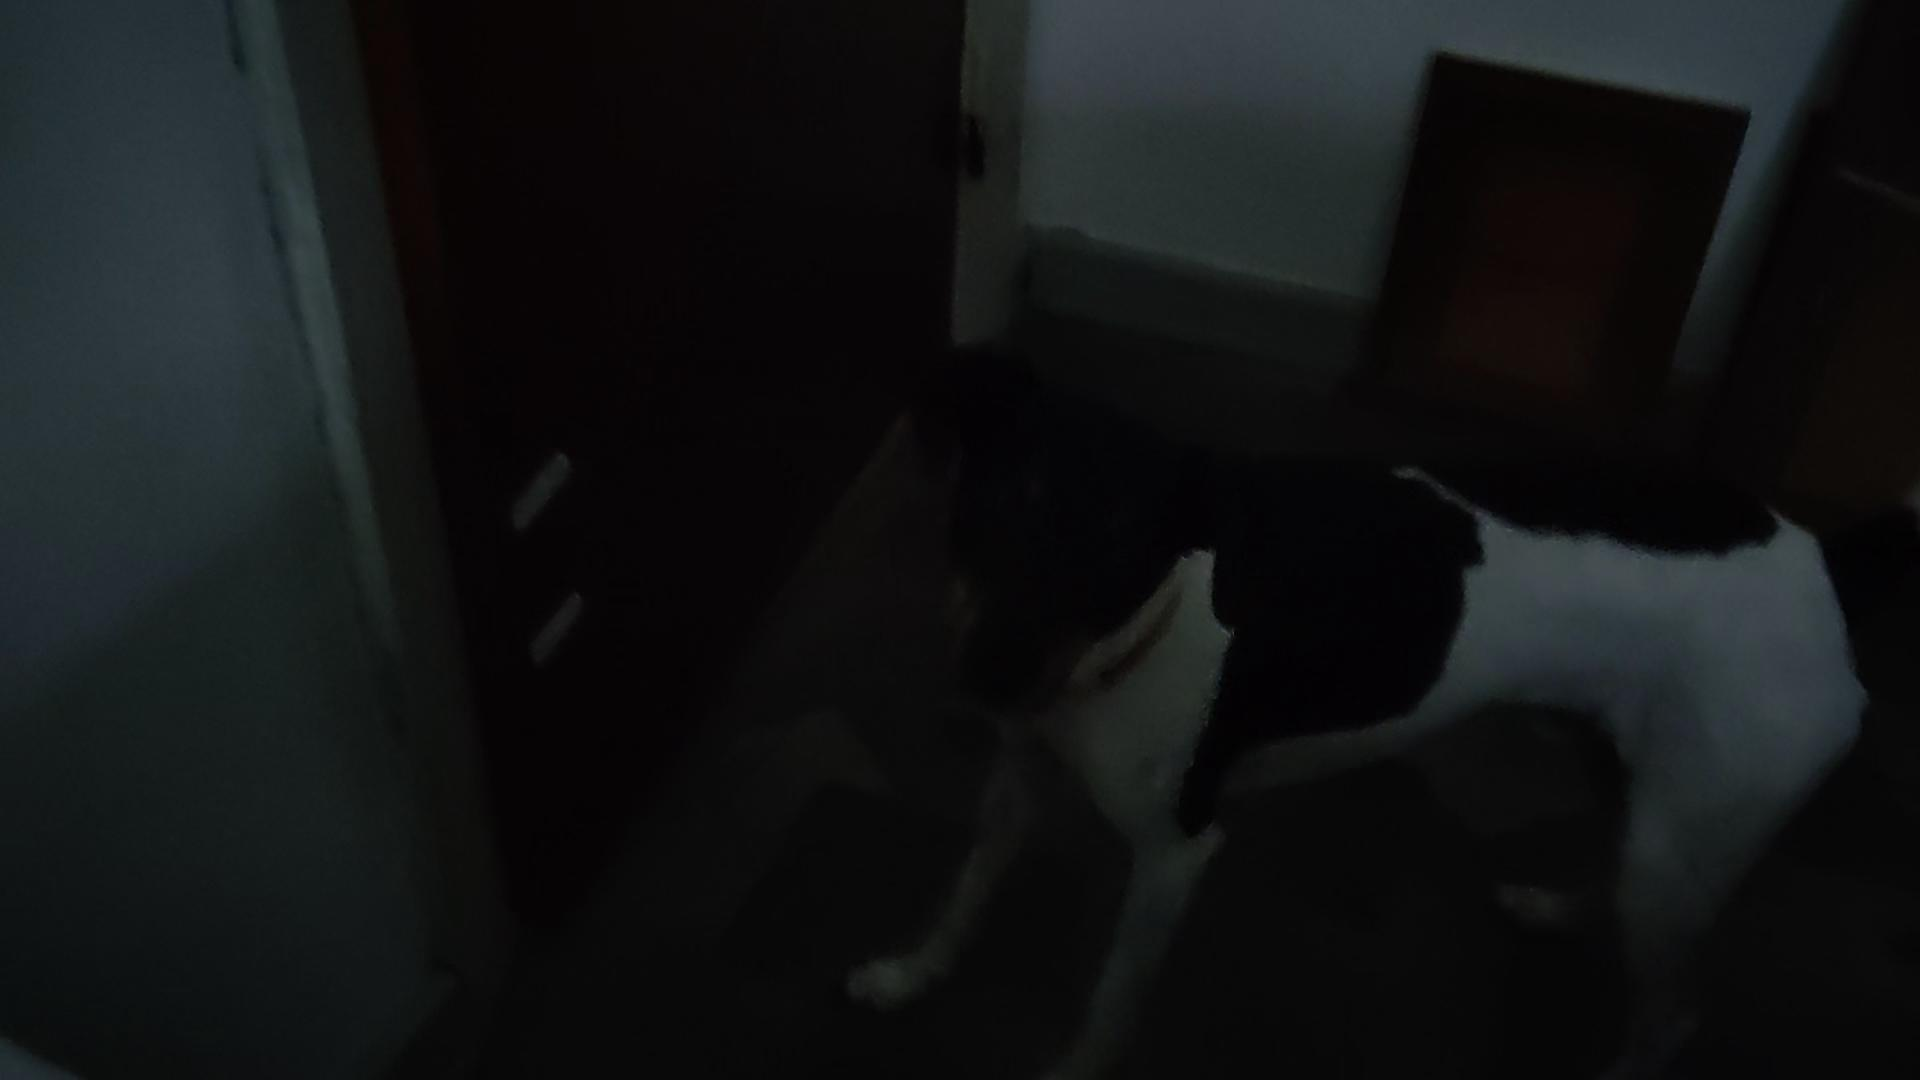Dog: (835, 328, 1919, 1079)
